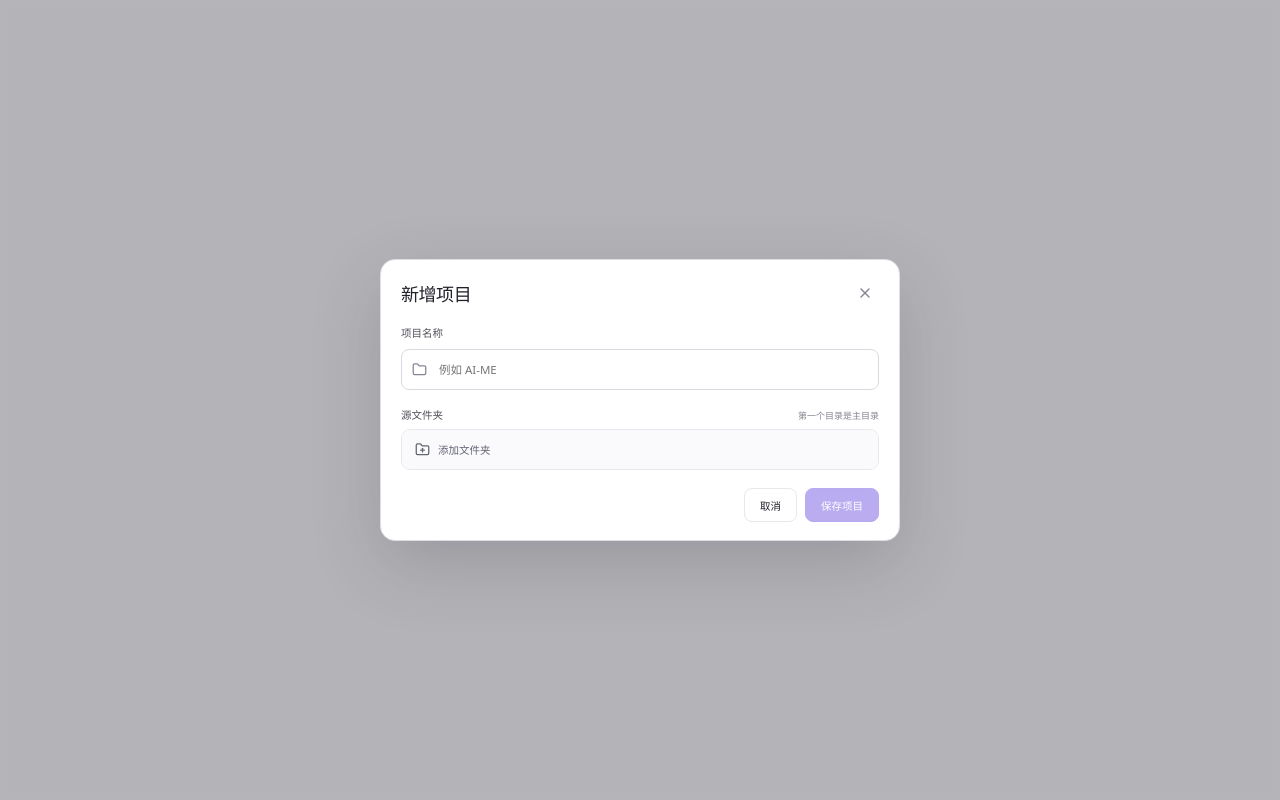
it: 保存失败时保留输入并显示错误
Type "新项目" into the field labelled "项目名称" at coordinates (652, 370), box [437,350,868,389]
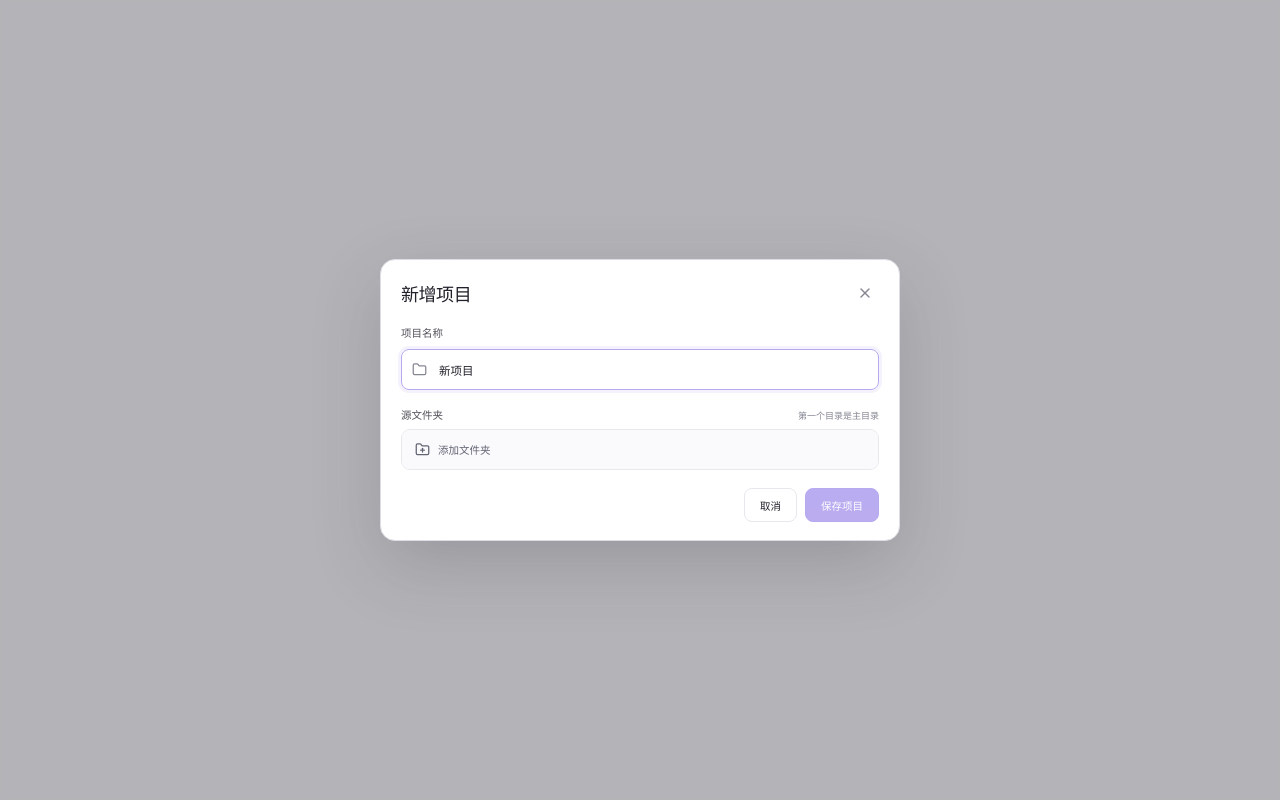
Click the button "添加文件夹" at coordinates (464, 450), box [402,430,878,469]
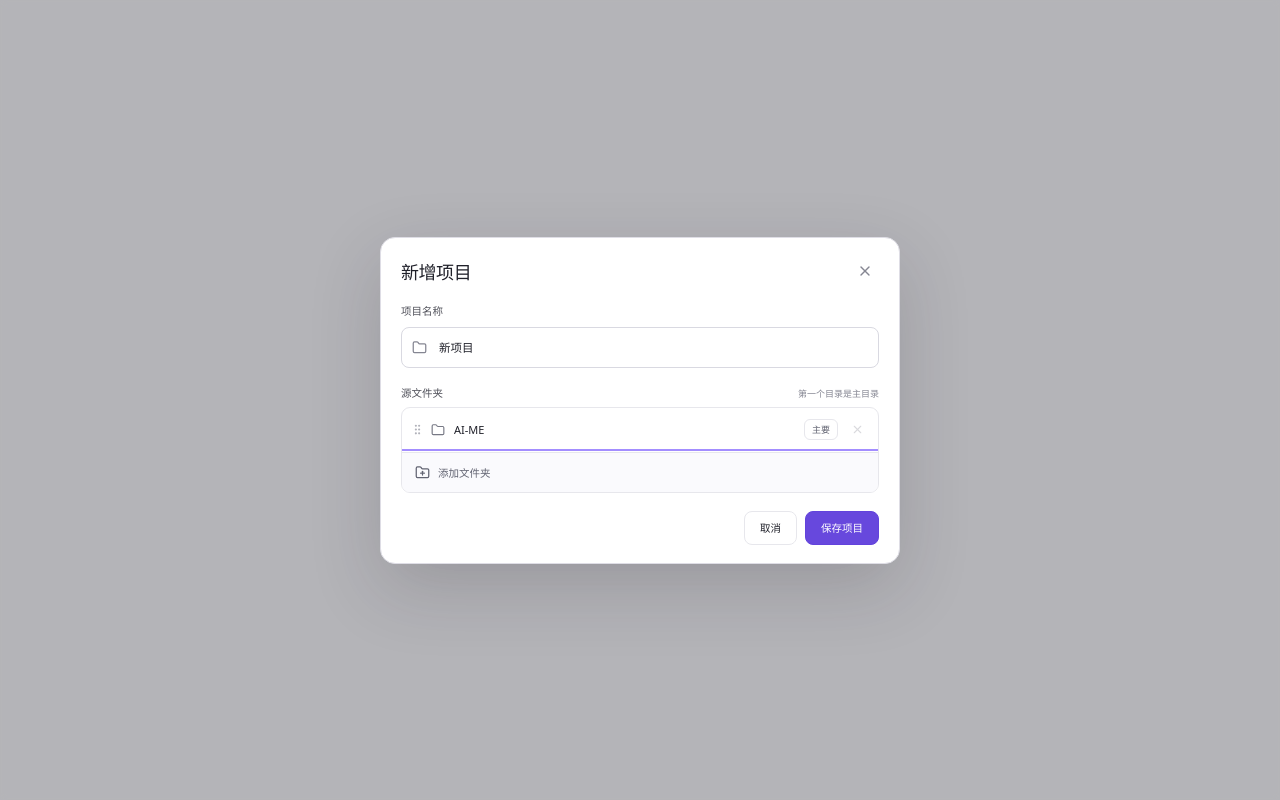
Click the button "保存项目" at coordinates (842, 528), box [805,510,879,544]
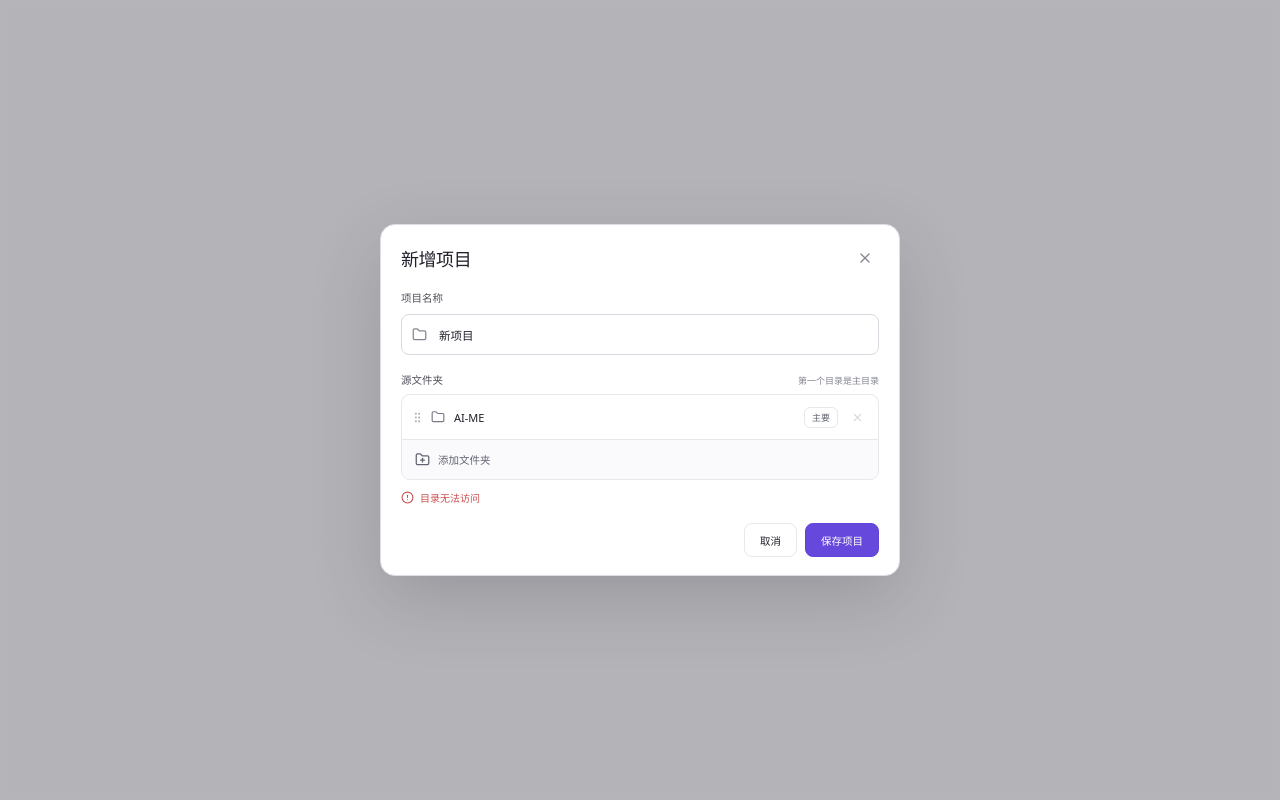
Check: the text "目录无法访问" is shown, box [401,491,480,505]
